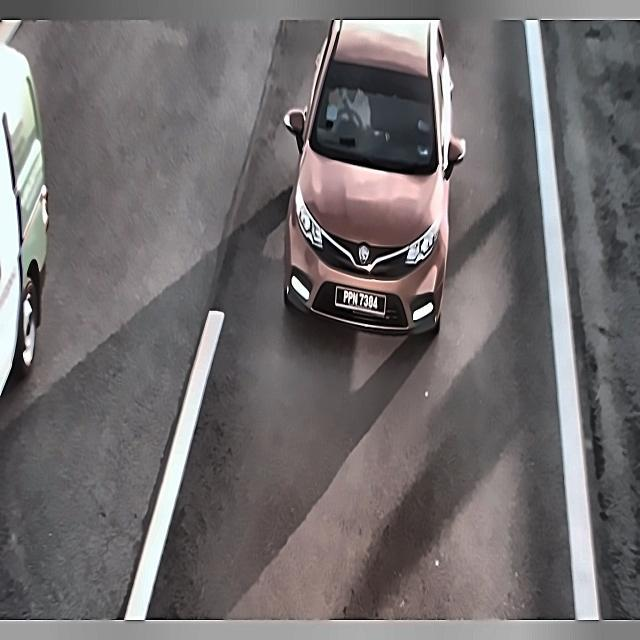car: (329, 275, 393, 322)
